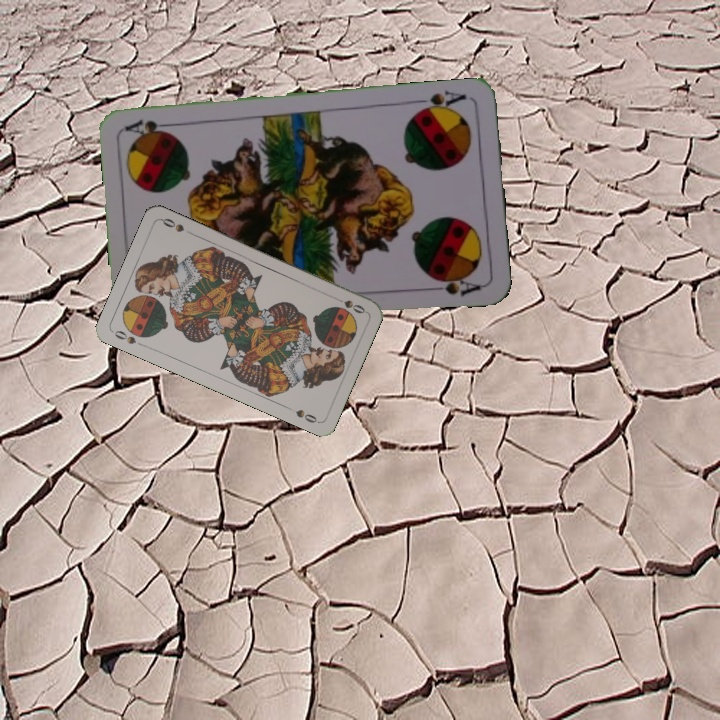SA: (412, 87, 468, 116)
SO: (330, 293, 368, 316), (110, 326, 138, 347)
